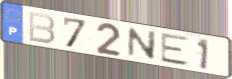1: (195, 38, 211, 72)
2: (95, 22, 124, 59)
7: (62, 15, 89, 50)
B: (27, 10, 57, 46)
E: (160, 33, 192, 68)
N: (126, 27, 159, 62)
